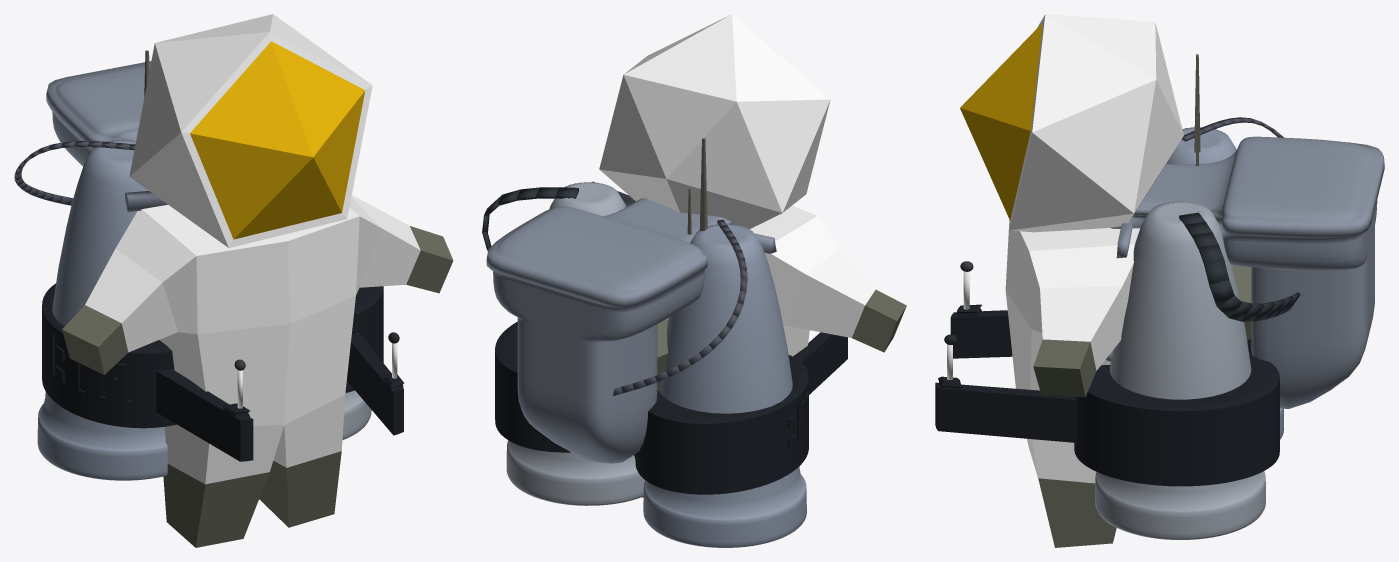
File: Astronauta con jetpack.fbx
3 renders of one model, left to right at view 1: azimuth 30°, elevation 25°; view 2: azimuth 150°, elevation 25°; view 3: azimuth 270°, elevation 25°, orthographic. The views are drawn at different scales.
Visible parts, largest first — view 1: Player, Cylinder.002, Cylinder, Cube, Plane, Cylinder.001; view 2: Player, Cube, Cylinder, Cylinder.002, Cylinder.001, Plane, Plane.001; view 3: Player, Cube, Cylinder.002, Cylinder.001, Plane.001, Cylinder, Plane.
Boxes of the visible parts, x1,y1,x2,y2 form: Player: [62, 14, 453, 547]; Cylinder.002: [42, 283, 404, 461]; Cylinder: [37, 140, 167, 480]; Cube: [46, 61, 167, 211]; Plane: [14, 141, 135, 205]; Cylinder.001: [342, 390, 371, 440]; Player: [599, 14, 906, 497]; Cube: [486, 181, 776, 463]; Cylinder: [643, 224, 806, 547]; Cylinder.002: [495, 321, 847, 494]; Cylinder.001: [506, 182, 645, 505]; Plane: [613, 219, 747, 395]; Plane.001: [482, 187, 578, 251]; Player: [960, 14, 1251, 547]; Cube: [1105, 136, 1384, 408]; Cylinder.002: [935, 304, 1279, 486]; Cylinder.001: [1095, 201, 1265, 539]; Plane.001: [1179, 212, 1300, 321]; Cylinder: [1166, 127, 1283, 439]; Plane: [1181, 117, 1283, 141].
Size of the model in its own units: 363 by 459 by 372.
